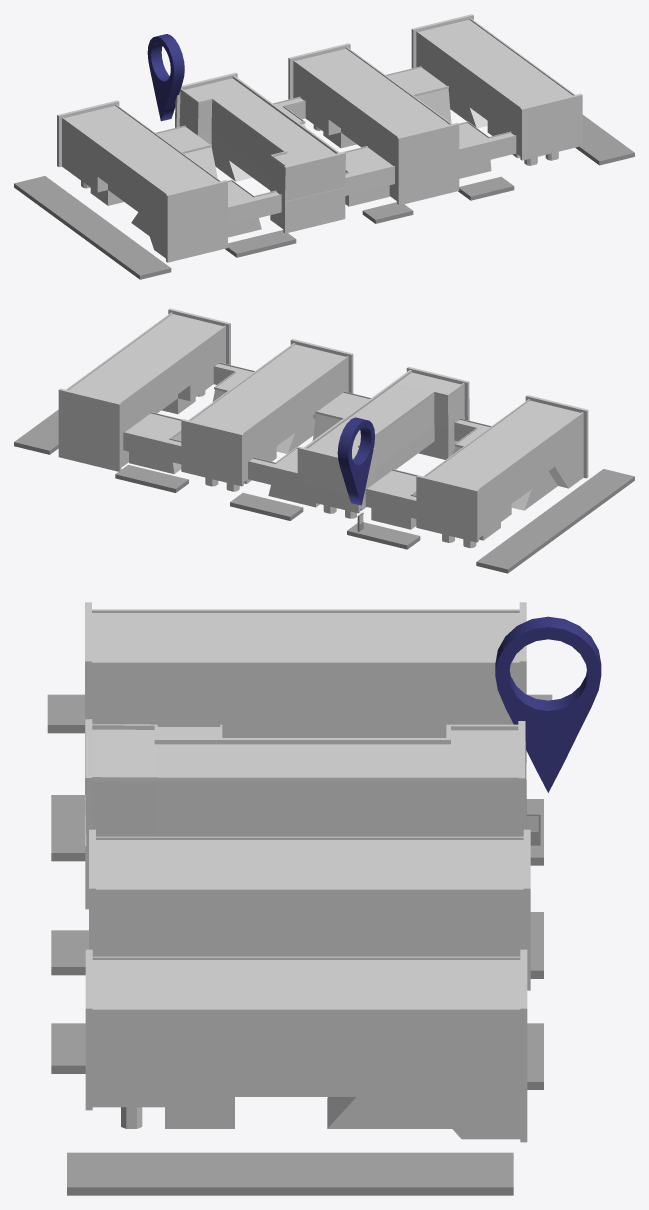
The picture shows the model from 3 angles, top to bottom: view 1: azimuth 30°, elevation 25°; view 2: azimuth 150°, elevation 25°; view 3: azimuth 270°, elevation 25°; orthographic projection. The views are drawn at different scales.
Parts seen in each view (by area): view 1: pCube27, pCube33, pCube34, pCube29, pCube82, pCylinder16, pCube42, pCube62, pCube64, pCube63; view 2: pCube27, pCube33, pCube34, pCube29, pCube82, pCylinder16, pCube42, pCube80, pCube81, pCube79; view 3: pCube33, pCube34, pCube27, pCube29, pCube42, pCylinder16, pCube62, pCube64, pCube63, pCube82, pCube81, pCube80.
Part boxes in pixels (x1,y1,x2,y2): pCube27: (57,100,281,262); pCube33: (386,14,582,178); pCube34: (273,43,459,206); pCube29: (175,72,345,233); pCube82: (14,176,171,279); pCylinder16: (147,34,184,121); pCube42: (575,115,634,165); pCube62: (225,230,296,257); pCube64: (458,176,514,200); pCube63: (362,202,413,223); pCube27: (365,395,588,548); pCube33: (58,308,254,473); pCube34: (181,339,370,507); pCube29: (297,366,469,518); pCube82: (476,469,634,573); pCylinder16: (337,417,374,505); pCube42: (14,409,58,454); pCube80: (230,493,303,520); pCube81: (115,465,188,492); pCube79: (347,522,420,549); pCube33: (85,949,527,1142); pCube34: (89,829,530,990); pCube27: (85,602,526,794); pCube29: (85,719,526,909); pCube42: (67,1152,513,1195); pCylinder16: (495,616,601,792); pCube62: (51,795,85,861); pCube64: (51,1023,85,1073); pCube63: (51,930,88,975); pCube82: (47,694,552,733); pCube81: (527,1023,543,1089); pCube80: (530,912,543,978).
Size of the model in its own units: 16.42 by 3.67 by 7.88.
